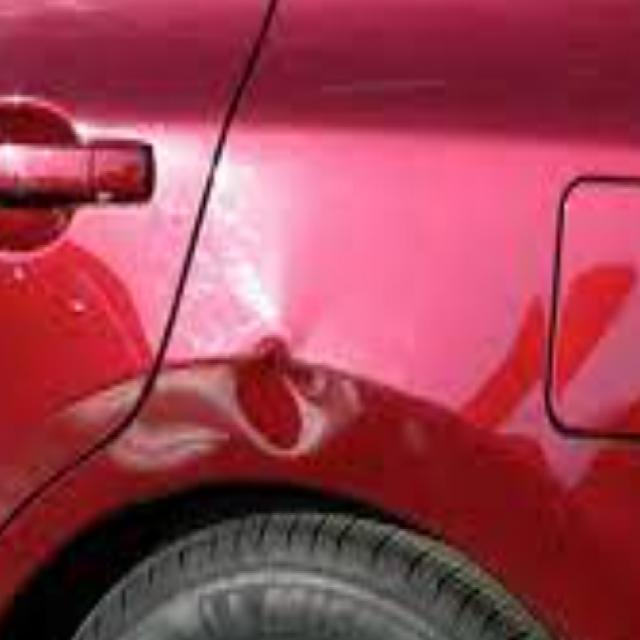dents: (219, 325, 370, 477)
